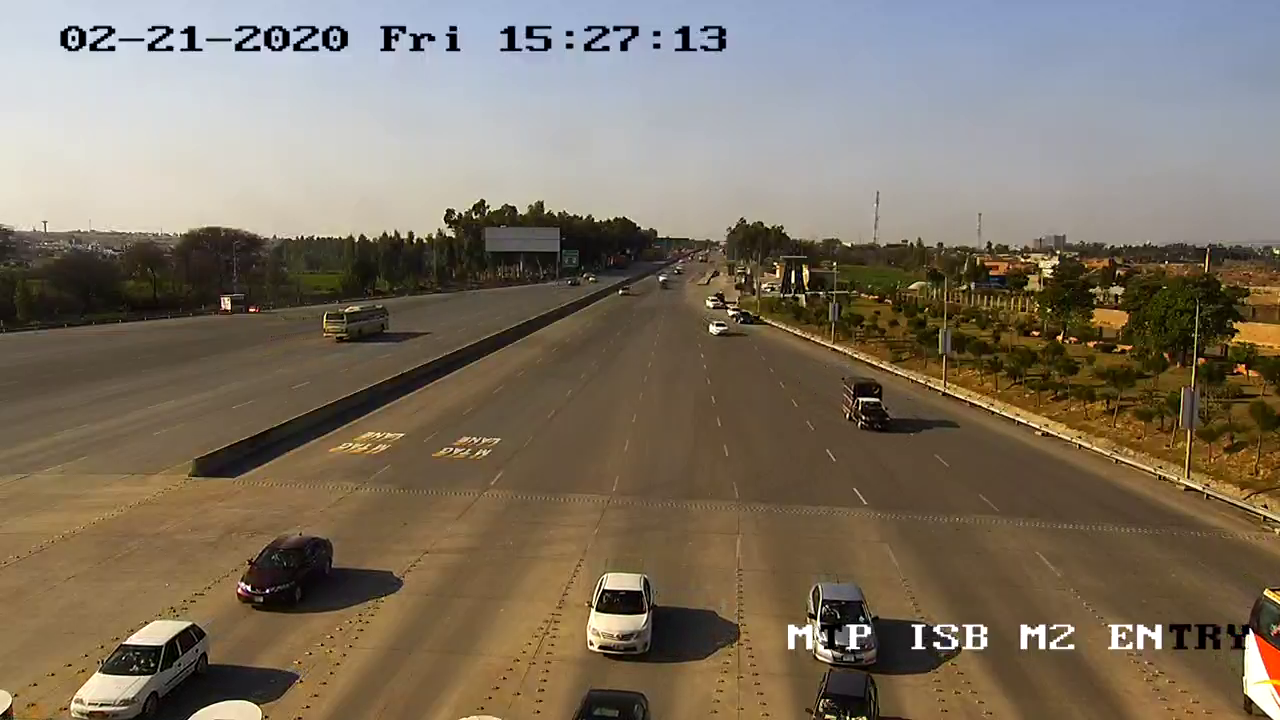f1: (53, 608, 216, 720), (229, 528, 339, 619), (579, 562, 662, 666)
